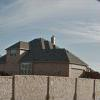Chimney: (49, 28, 57, 47)
